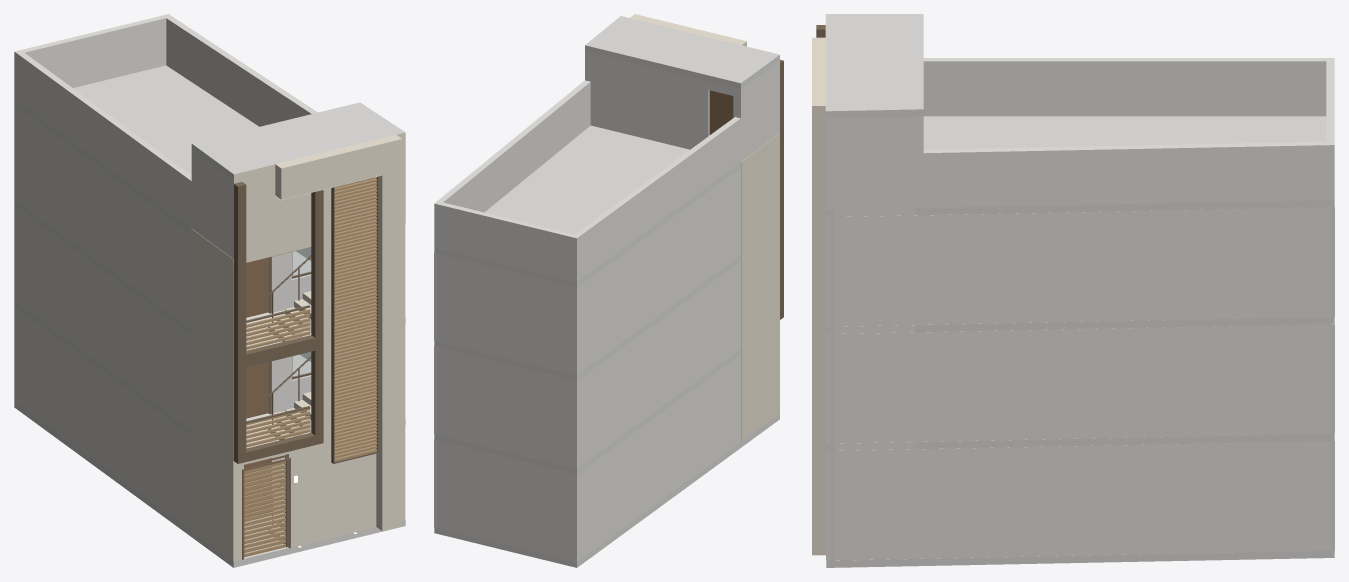
The model's file is house_alt2.glb.
3 renders of one model, left to right at view 1: azimuth 30°, elevation 25°; view 2: azimuth 150°, elevation 25°; view 3: azimuth 270°, elevation 25°, orthographic. The views are drawn at different scales.
Parts seen in each view (by area): view 1: F2_wall, FACADE_marble, FACADE_wood, F1_wall, F2_slab, G_wall, FACADE_cnc, G_slab, F2_walnut, F1_slab, F1_walnut, F2_floor (+4 smaller); view 2: F2_wall, F1_wall, G_wall, F2_slab, FACADE_marble, G_slab, F1_slab, FACADE_cnc, F2_walnut; view 3: F2_wall, F1_wall, G_wall, F2_slab, FACADE_marble, G_slab, F1_slab.
Boxes of the visible parts, x1,y1,x2,y2 form: F2_wall: (14, 14, 405, 328); FACADE_marble: (191, 132, 405, 561); FACADE_wood: (244, 177, 377, 557); F1_wall: (14, 206, 311, 429); F2_slab: (14, 65, 405, 233); G_wall: (14, 307, 288, 547); FACADE_cnc: (233, 176, 378, 557); G_slab: (14, 300, 405, 567); F2_walnut: (246, 258, 268, 317); F1_slab: (14, 200, 405, 334); F1_walnut: (246, 362, 268, 418); F2_floor: (246, 251, 311, 350); F2_wall: (434, 51, 779, 375); F1_wall: (434, 261, 740, 468); G_wall: (434, 355, 740, 561); F2_slab: (434, 16, 779, 287); FACADE_marble: (621, 14, 779, 441); G_slab: (434, 349, 779, 567); F1_slab: (434, 255, 740, 381); FACADE_cnc: (780, 59, 783, 319); F2_walnut: (709, 90, 733, 134); F2_wall: (826, 58, 1334, 326); F1_wall: (826, 324, 1334, 443); G_wall: (826, 441, 1334, 560); F2_slab: (826, 14, 1334, 217); FACADE_marble: (812, 14, 826, 560); G_slab: (826, 433, 1334, 567); F1_slab: (826, 317, 1334, 333).
Size of the model in its own units: 5.72 by 12.5 by 12.96.
